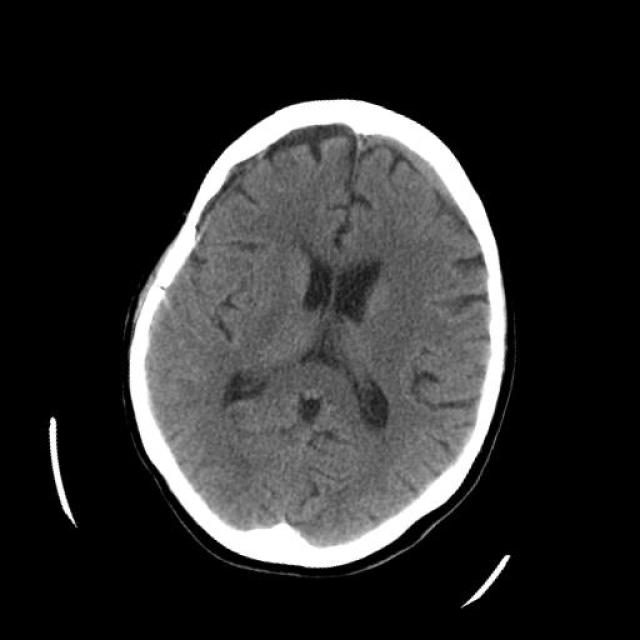Subdural: (337, 118, 495, 243)
